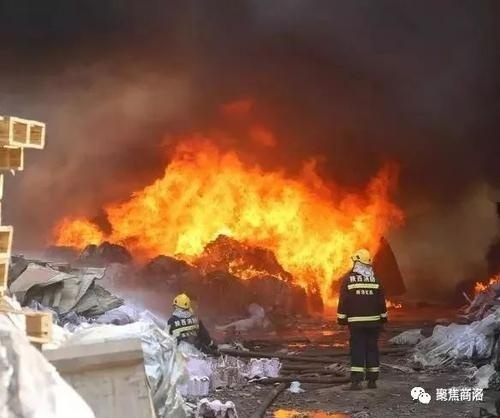fire: (68, 130, 412, 304)
